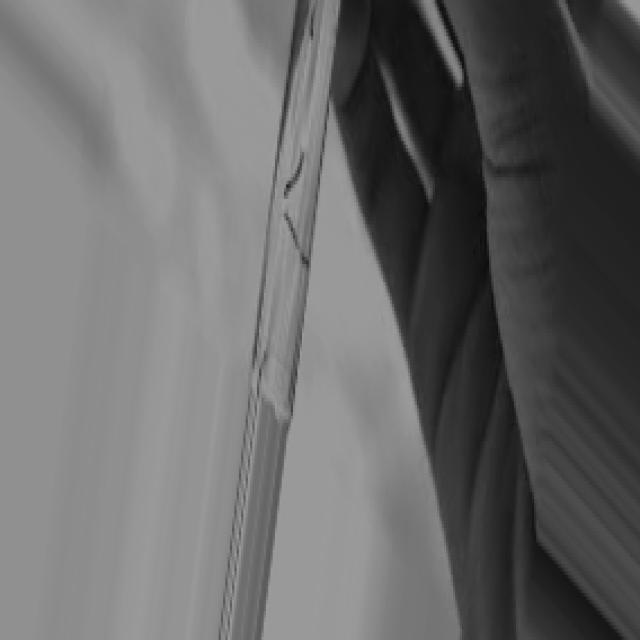larvas: (281, 207, 307, 271), (282, 146, 306, 196), (308, 0, 319, 43)
